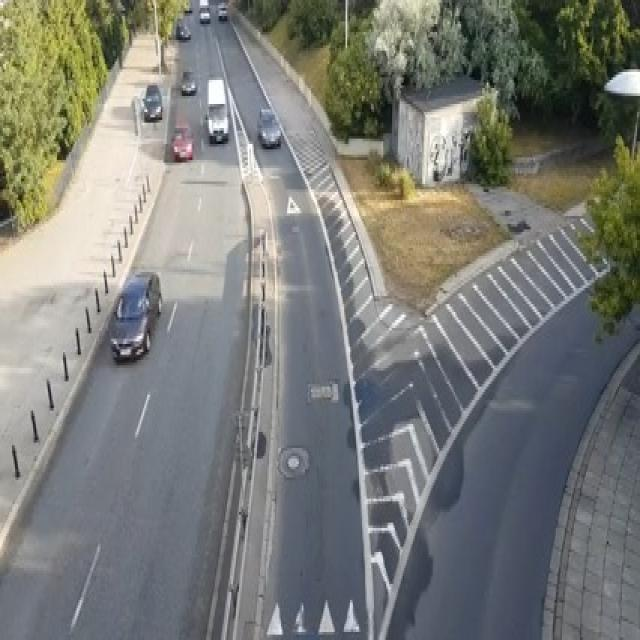car: (108, 269, 161, 360), (257, 106, 281, 146), (171, 123, 194, 160), (141, 83, 162, 120), (180, 70, 196, 94), (176, 19, 191, 40), (198, 3, 210, 21), (216, 0, 226, 21), (183, 0, 192, 13)
truck: (206, 77, 228, 144)
